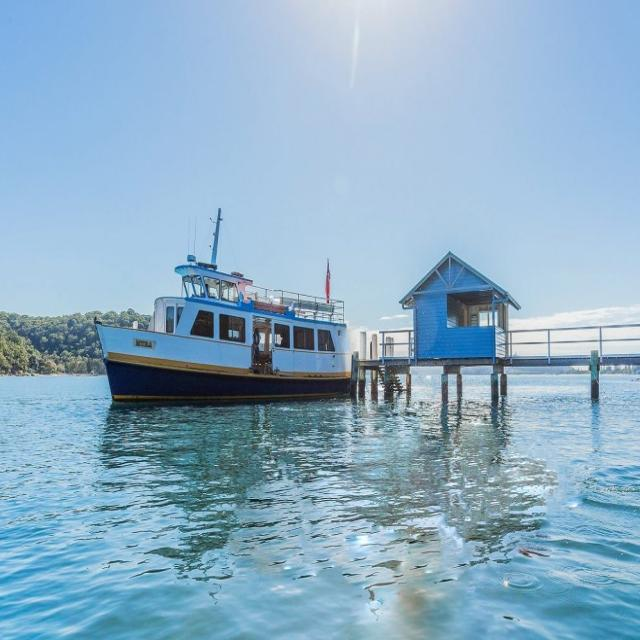houseboat: (94, 249, 366, 412)
